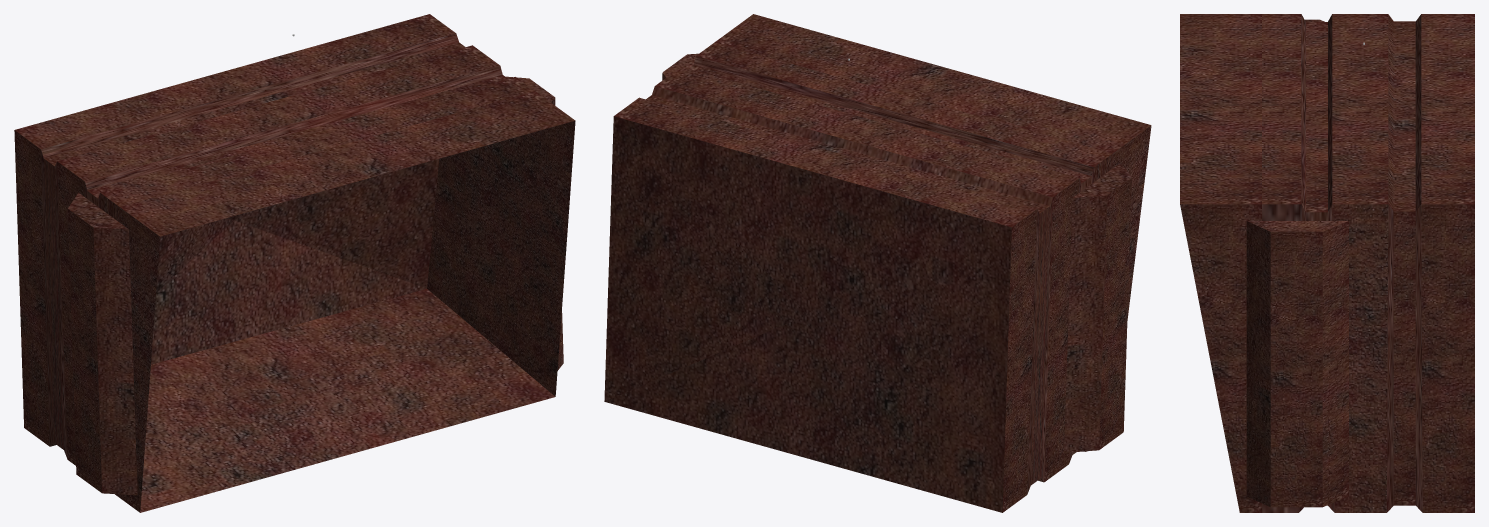
File: dumpsterts2open_wtf.obj
The picture shows the model from 3 angles, left to right: view 1: azimuth 30°, elevation 25°; view 2: azimuth 150°, elevation 25°; view 3: azimuth 270°, elevation 25°; orthographic projection. The views are drawn at different scales.
Visible parts, largest first — view 1: group5, group2, group7, group9, group8; view 2: group3, group2, group7, group9, group8; view 3: group2, group6, group9, group8.
Part boxes in pixels (left/top/right/bottom): group5: left=140, top=120, right=575, bottom=512; group2: left=15, top=14, right=574, bottom=236; group7: left=14, top=130, right=159, bottom=512; group9: left=67, top=97, right=563, bottom=495; group8: left=68, top=76, right=554, bottom=229; group3: left=604, top=116, right=1011, bottom=512; group2: left=614, top=14, right=1150, bottom=227; group7: left=1002, top=125, right=1151, bottom=512; group9: left=662, top=73, right=1131, bottom=452; group8: left=662, top=53, right=1131, bottom=197; group2: left=1180, top=14, right=1474, bottom=212; group6: left=1180, top=204, right=1474, bottom=512; group9: left=1246, top=221, right=1348, bottom=507; group8: left=1247, top=19, right=1347, bottom=231.
Bounding box in the file's own units: 660 × 510 × 353.
